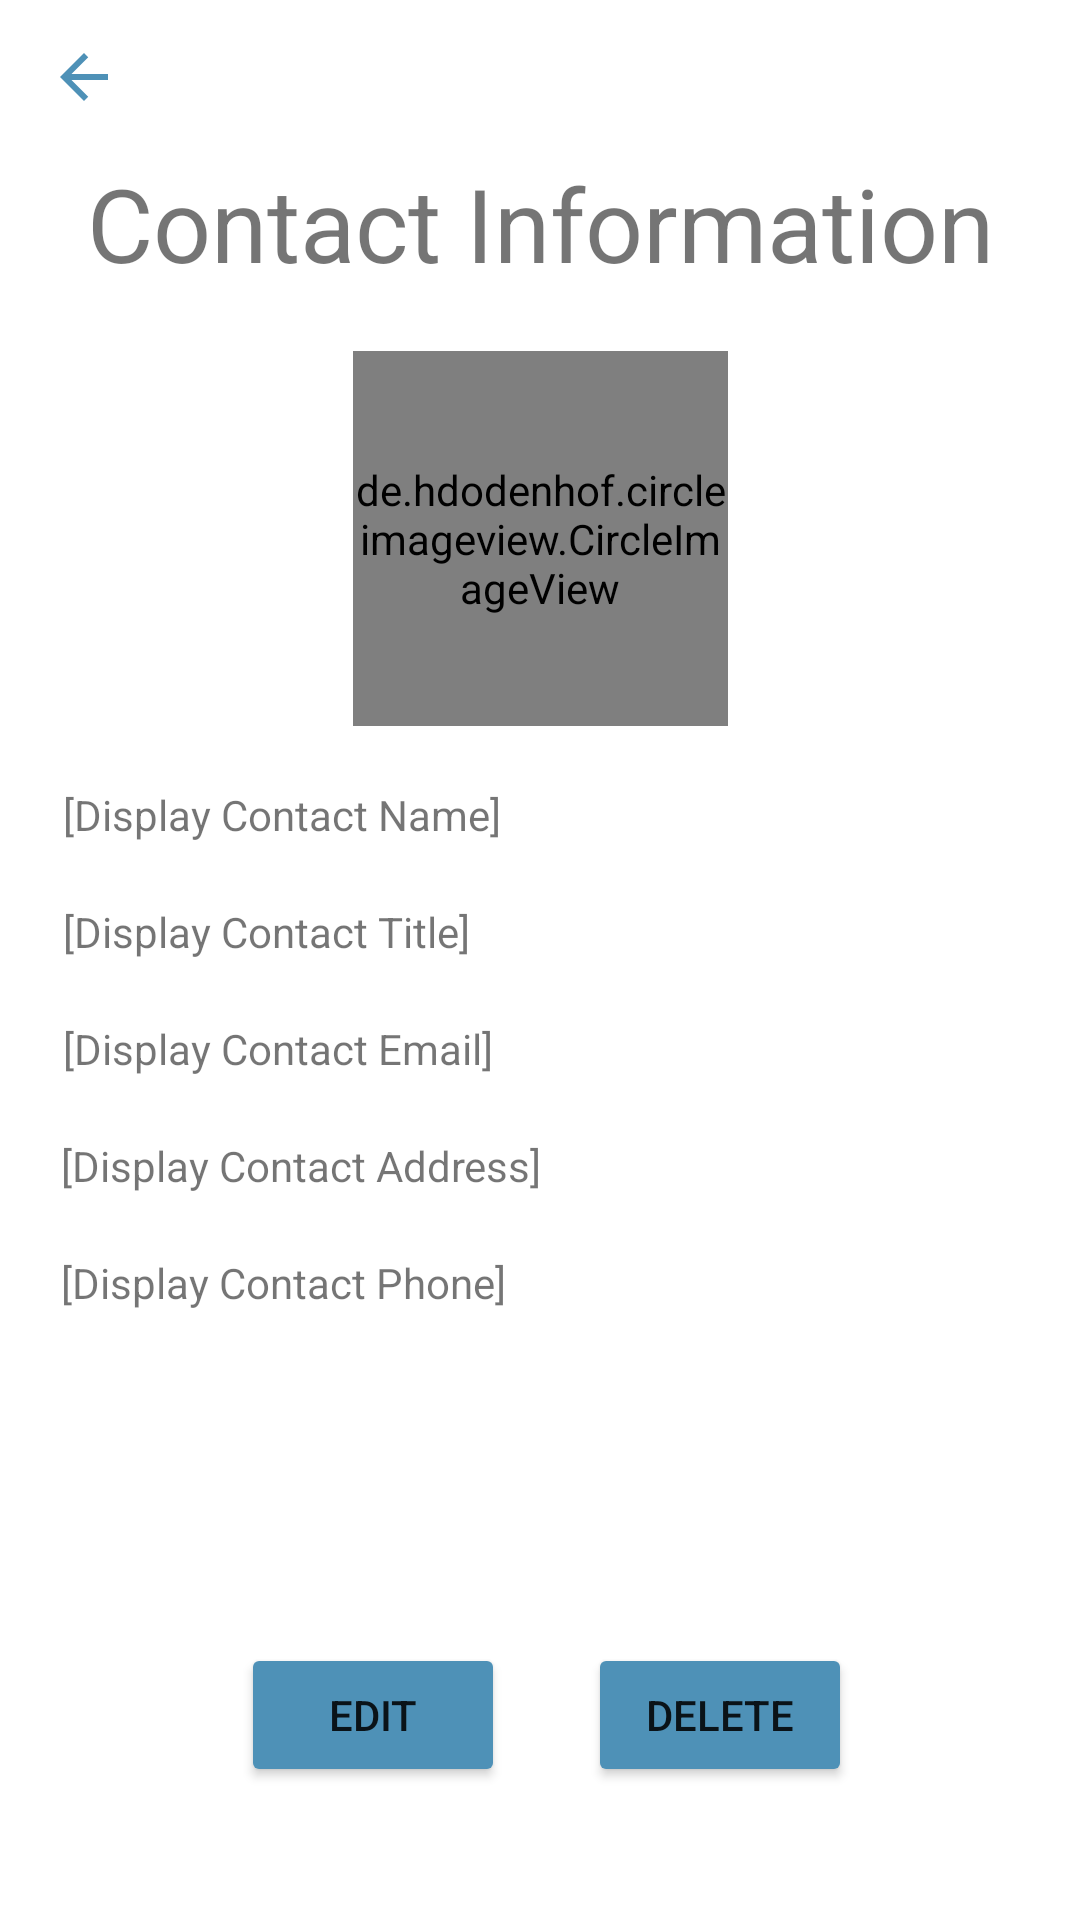

Icon bounding boxes for this 1080px x 1920px phone screenshot, format (x1, y1, x2, y2):
Return to previous page: (60, 53, 108, 101)
